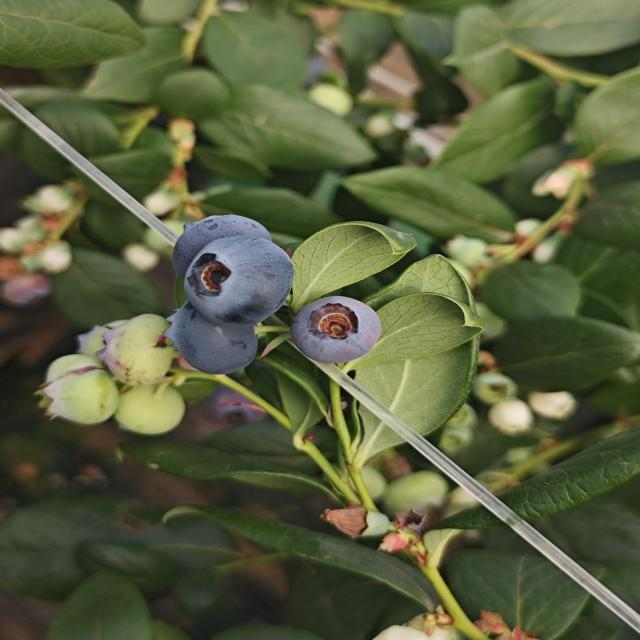ripe: (160, 290, 278, 382), (181, 230, 291, 328), (171, 210, 278, 292), (288, 294, 384, 366)
